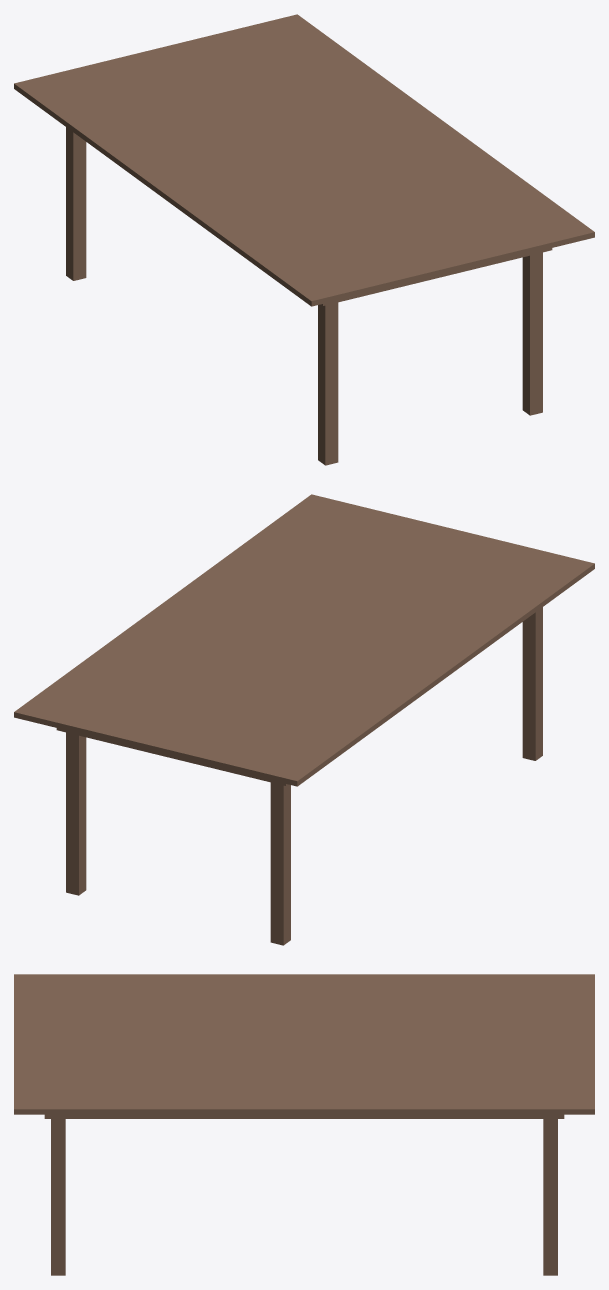
File: Table.fbx
The picture shows the model from 3 angles, top to bottom: view 1: azimuth 30°, elevation 25°; view 2: azimuth 150°, elevation 25°; view 3: azimuth 270°, elevation 25°; orthographic projection. The views are drawn at different scales.
Visible parts, largest first — view 1: Group1; view 2: Group1; view 3: Group1.
Boxes of the visible parts, left/top/right/bottom form: Group1: left=14, top=14, right=594, bottom=465; Group1: left=14, top=494, right=594, bottom=945; Group1: left=14, top=974, right=594, bottom=1275.
Bounding box in the file's own units: 1100 × 691 × 2000.
